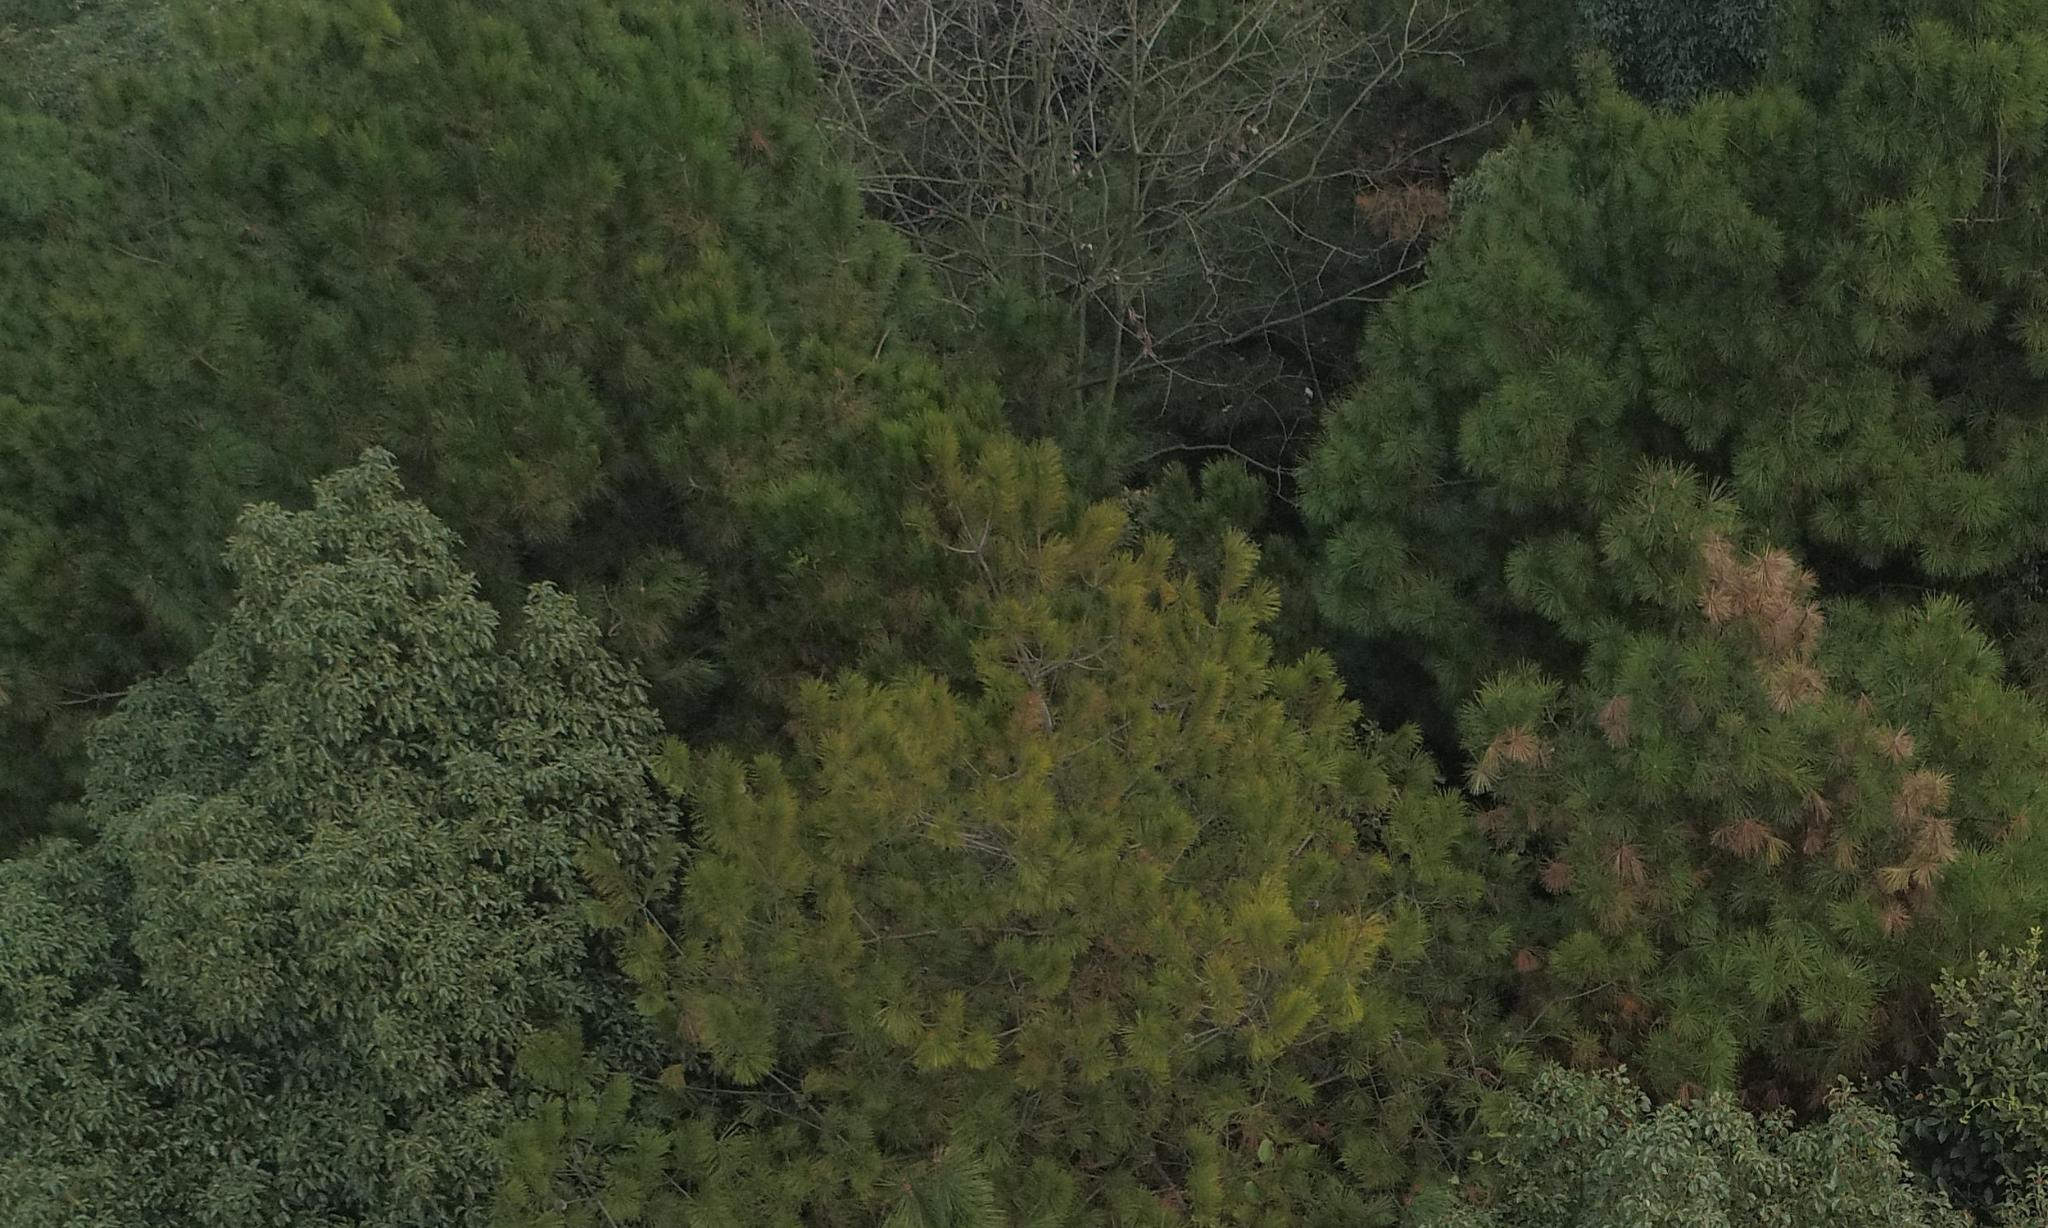light: (1474, 494, 1950, 1010)
